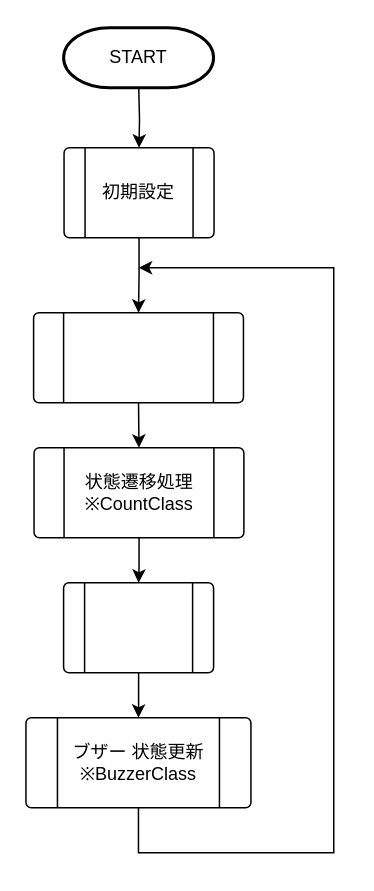
Image size: 374x891. Some labels were removed from this diagram. Here are the shapes that lost their labels. From the top down, the box of each, then its label:
(32, 311, 243, 403): スイッチ 状態検知 ※InputClass
(62, 581, 214, 673): LCD更新 ※LCDClass
